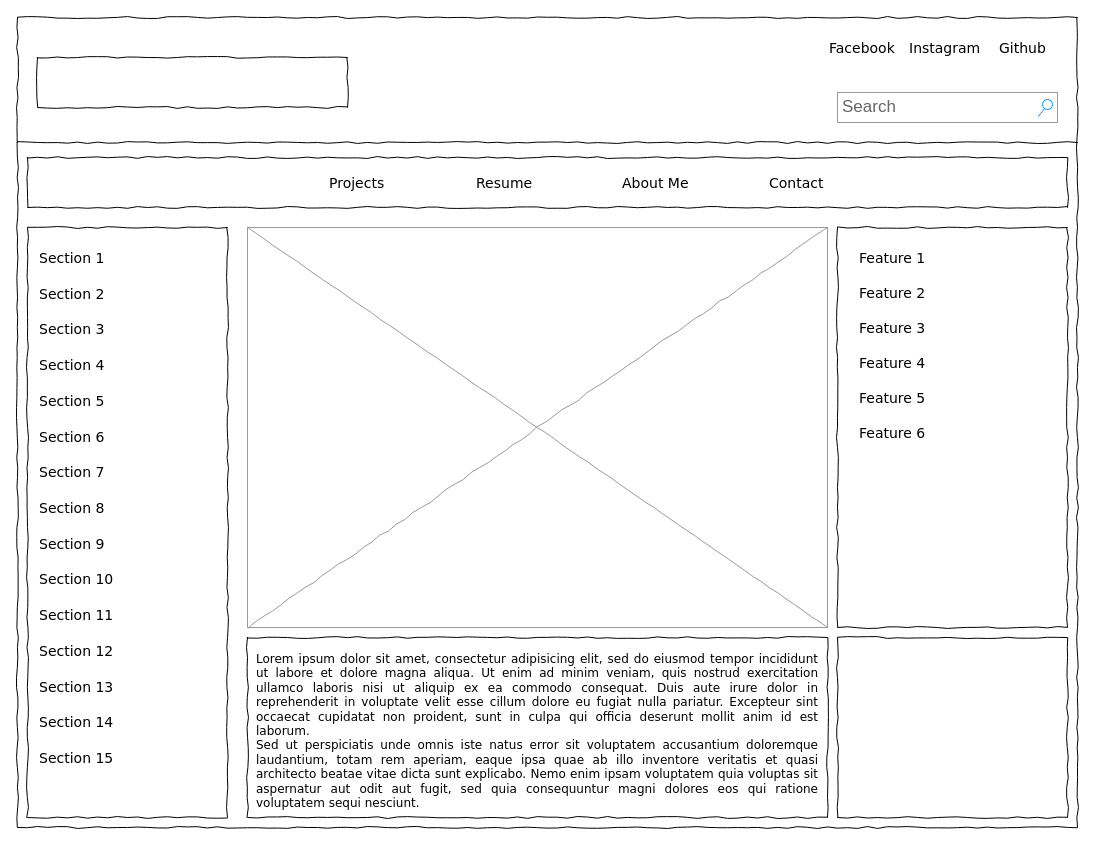
Some shapes in this 1095 by 845 pixel diagram are drawn without their labels. The shapes that lost their labels are listed below. From the top down, each one's centre as x and y in pixels, then its label:
(192,82): Christopher E. White
(952,727): External Links
